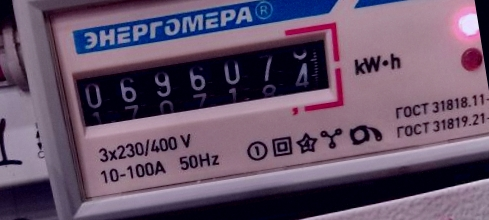0: (79, 78, 105, 111), (219, 55, 243, 87)
4: (288, 59, 311, 91)
6: (184, 60, 208, 94), (115, 72, 138, 104)
7: (254, 49, 276, 82)
9: (149, 67, 174, 99)
screen: (58, 14, 351, 149)
